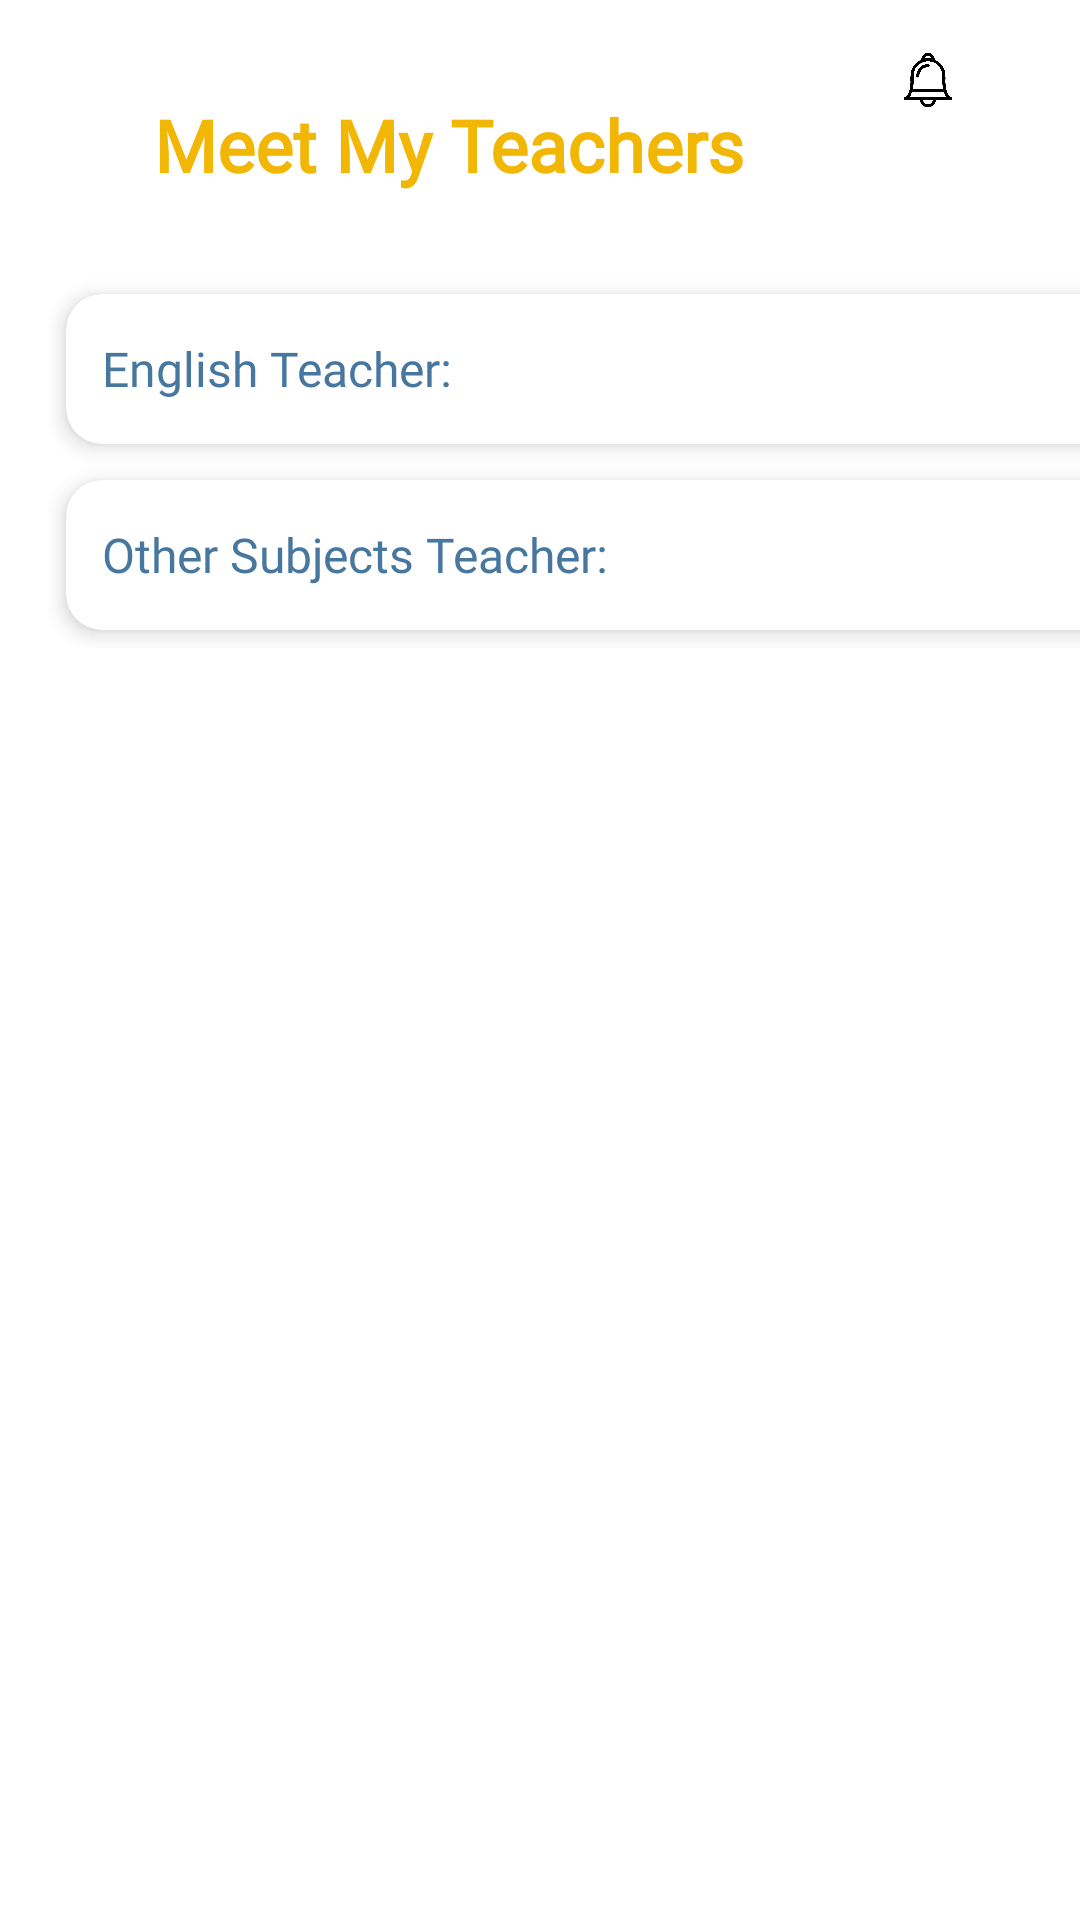

Point at icon controls on the screen. Image size 1080 x 1920, points as point (x, y).
bellicon: point (928, 80)
